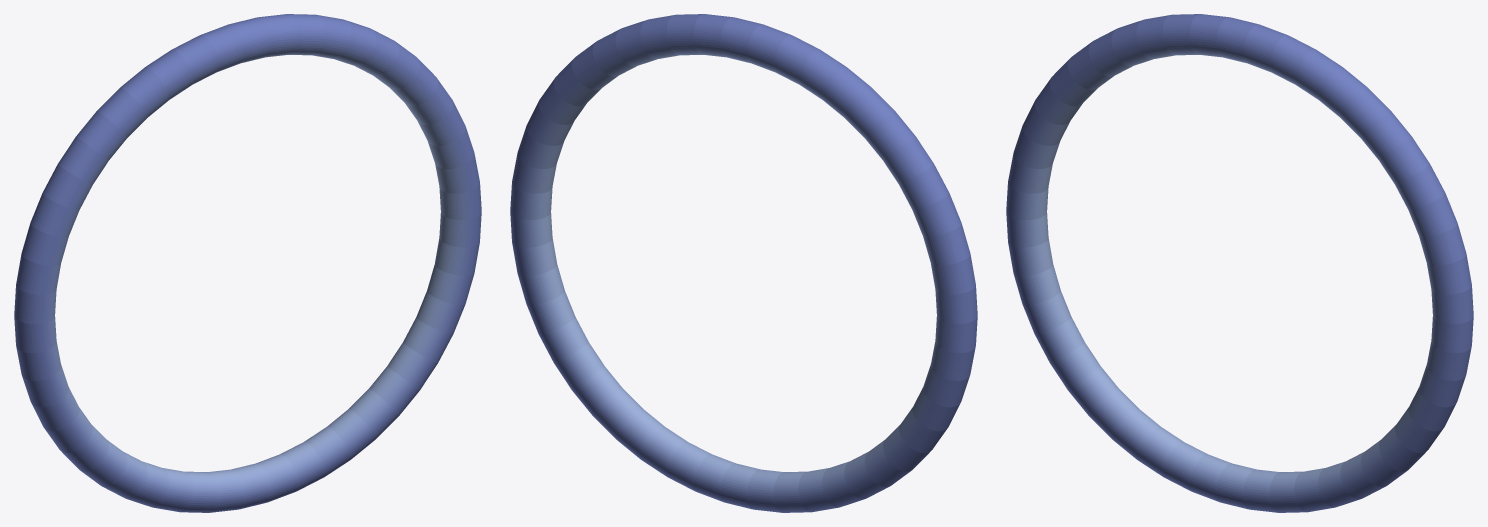
3 renders of one model, left to right at view 1: azimuth 30°, elevation 25°; view 2: azimuth 150°, elevation 25°; view 3: azimuth 330°, elevation 25°, orthographic.
Visible parts, largest first — view 1: world; view 2: world; view 3: world.
Part boxes in pixels (x1,y1,x2,y2): world: [14, 14, 481, 512]; world: [510, 14, 977, 512]; world: [1006, 14, 1473, 512].
Bounding box in the file's own units: 29.6 × 29.54 × 2.26.
